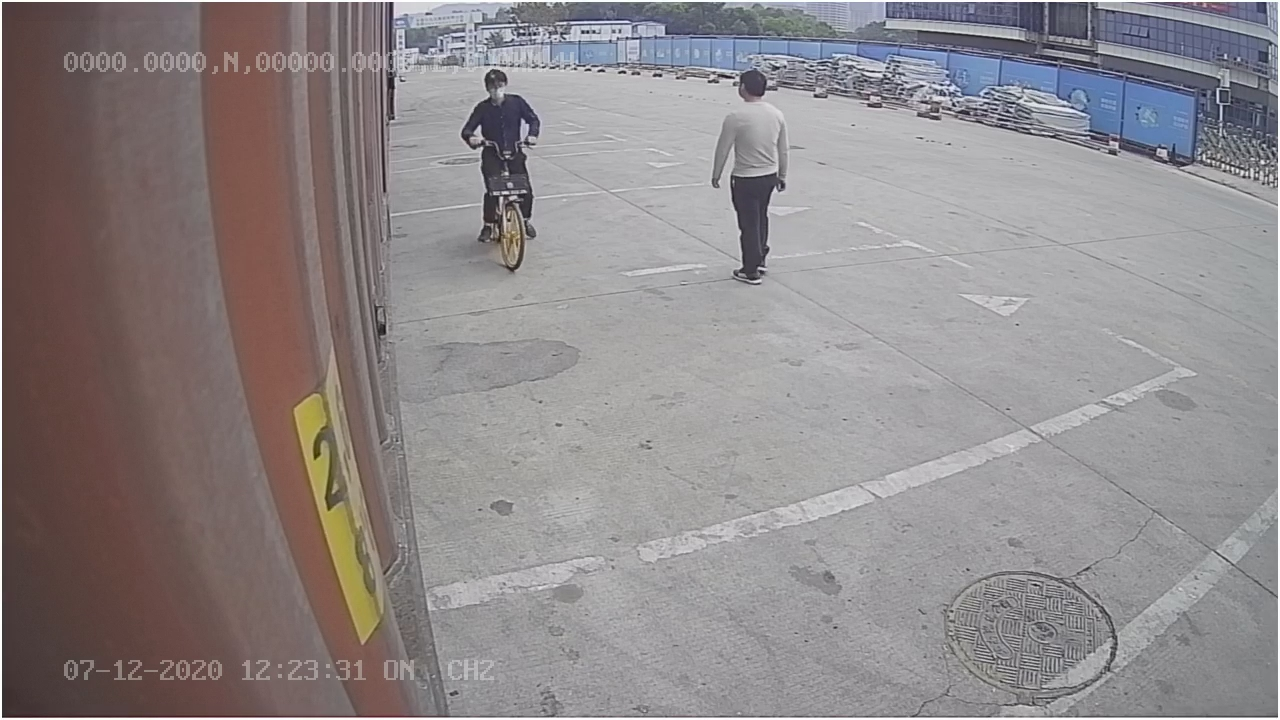person: (701, 65, 794, 289)
